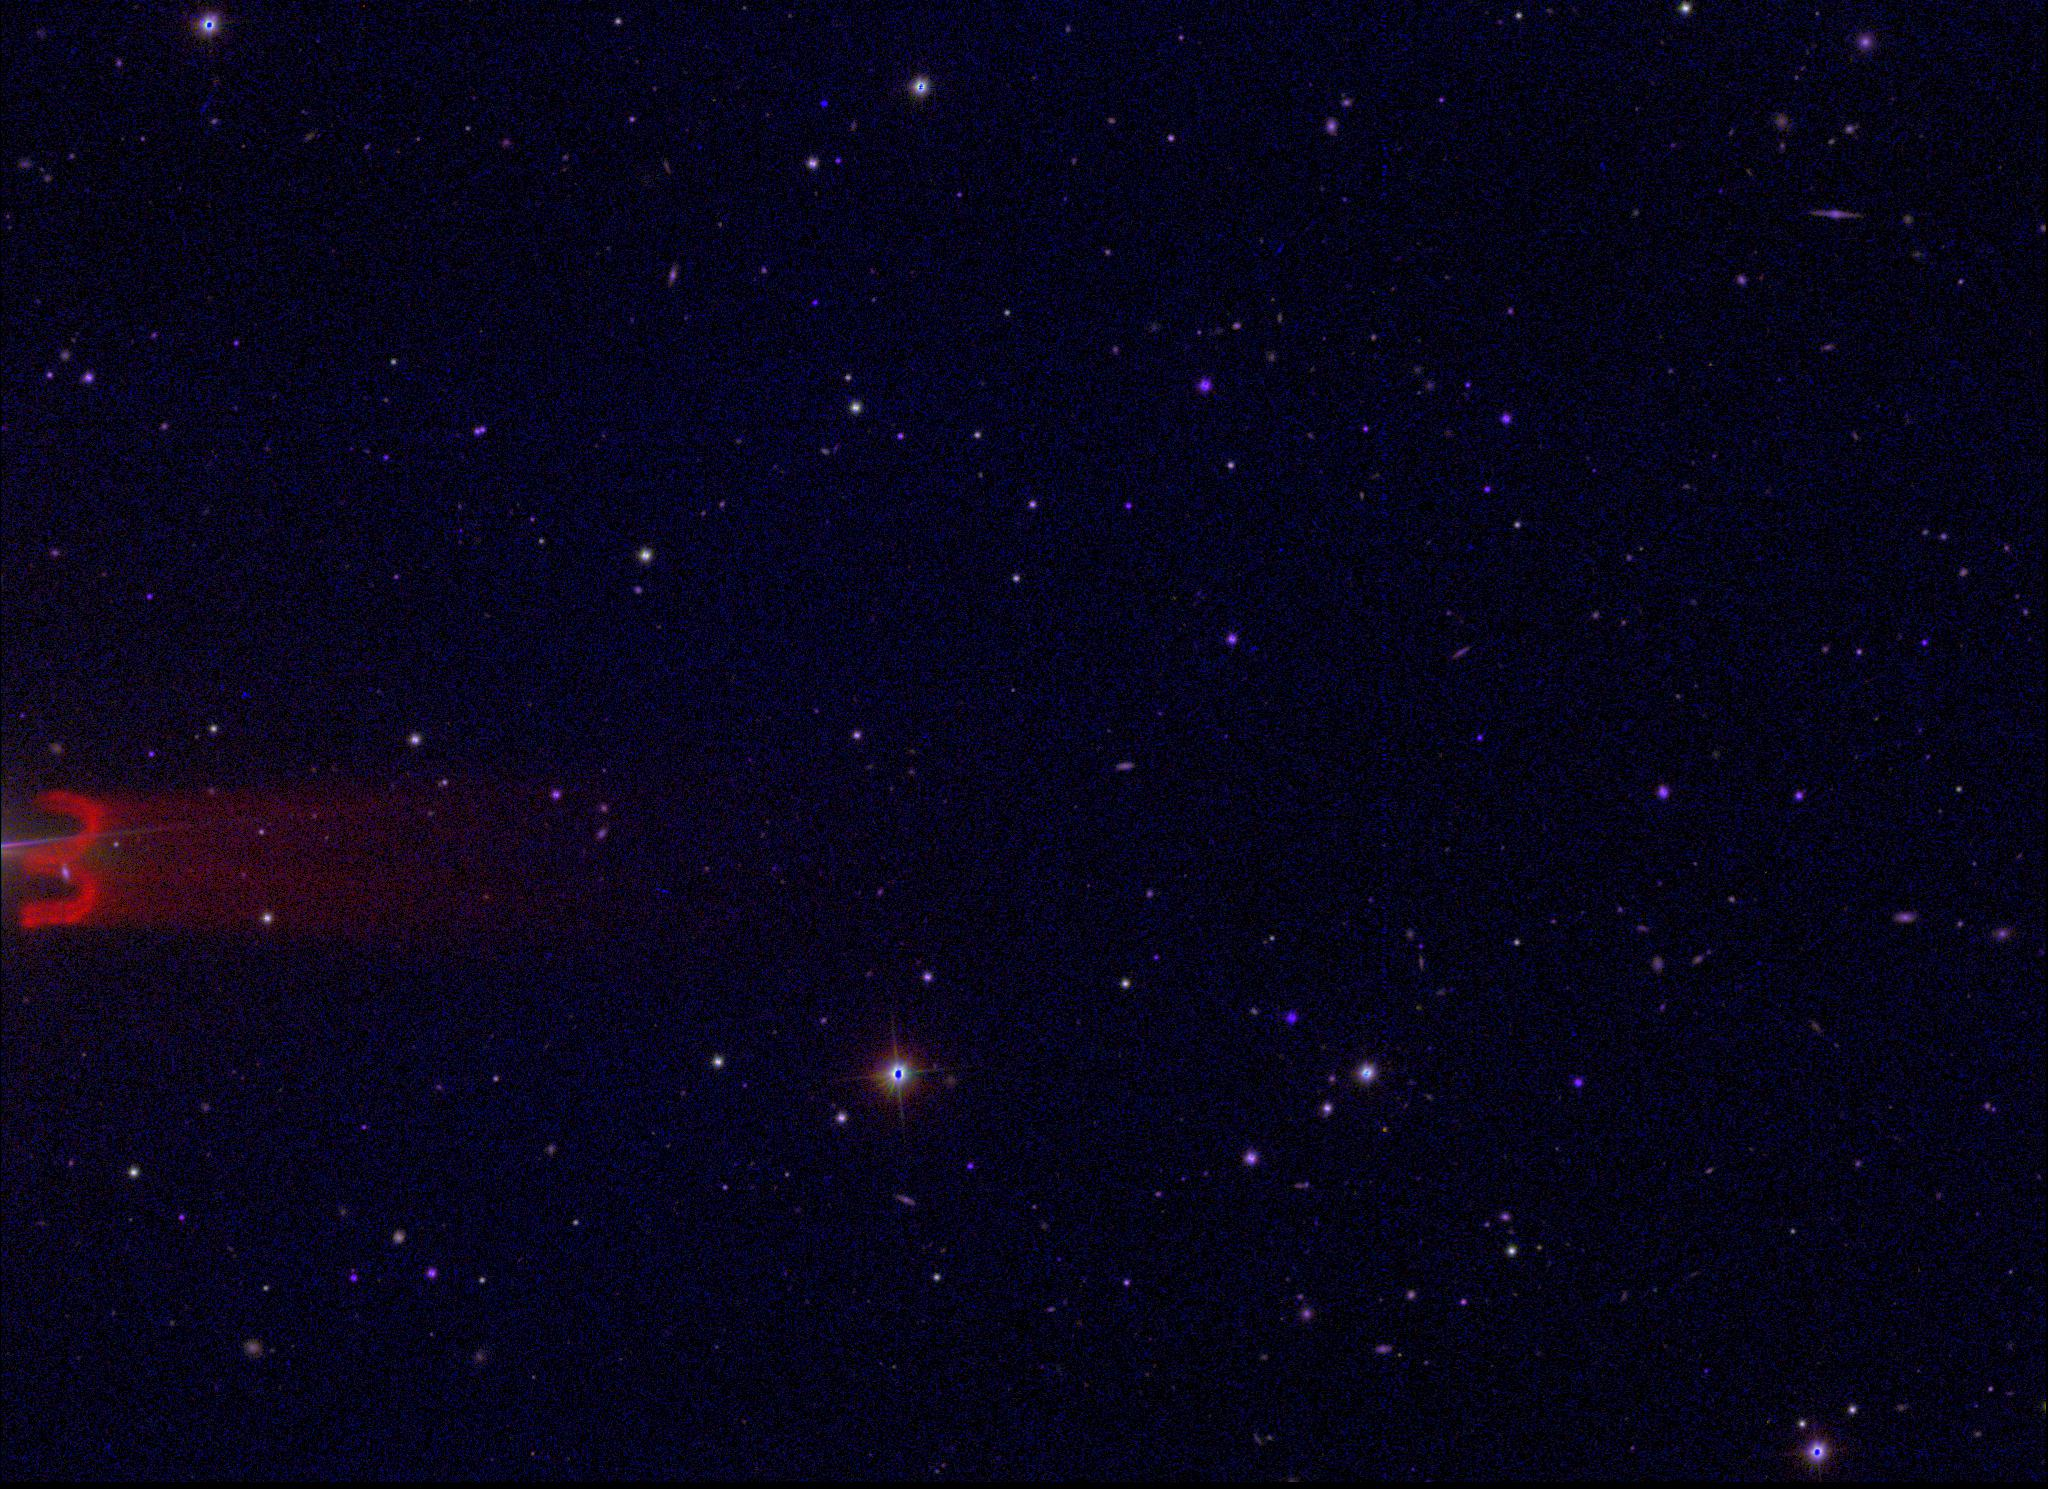L: (817, 94, 832, 108)
